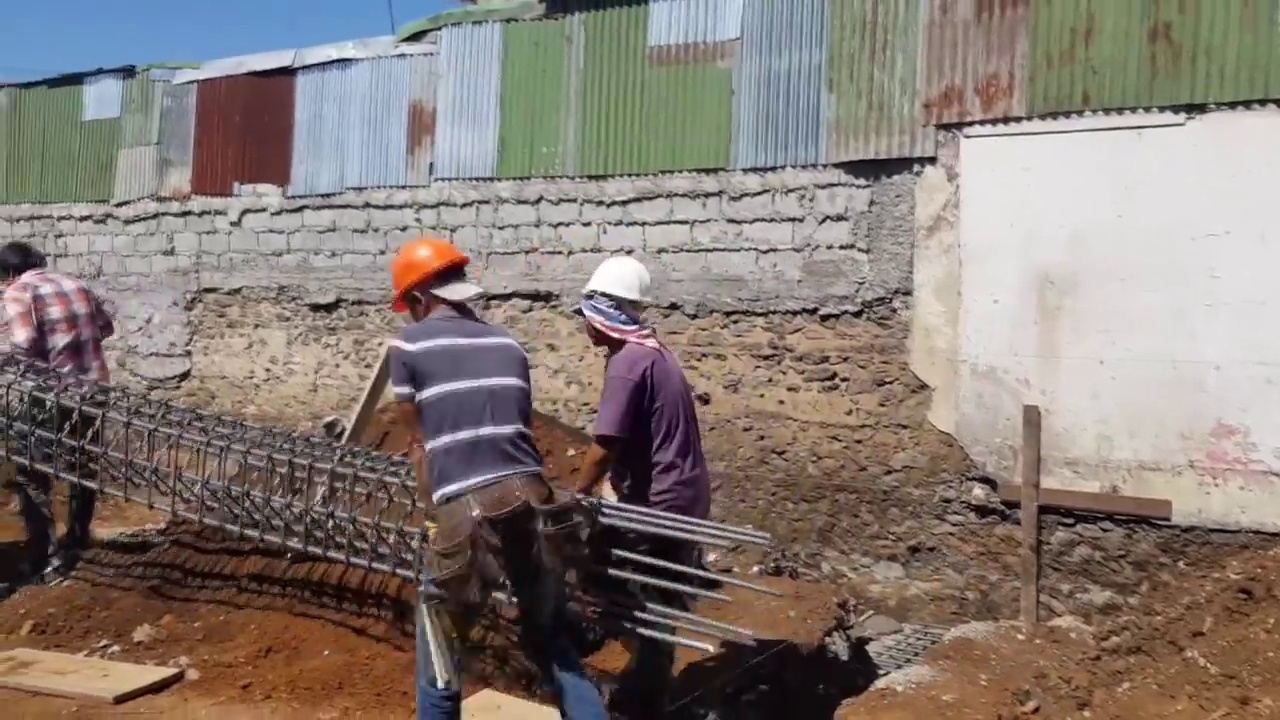helmet: (385, 233, 471, 314), (584, 254, 658, 304)
helmet-off: (0, 234, 50, 294)
helmet-on: (384, 231, 486, 333), (567, 252, 661, 353)
person: (379, 231, 608, 717), (567, 251, 715, 674), (1, 234, 115, 590)
